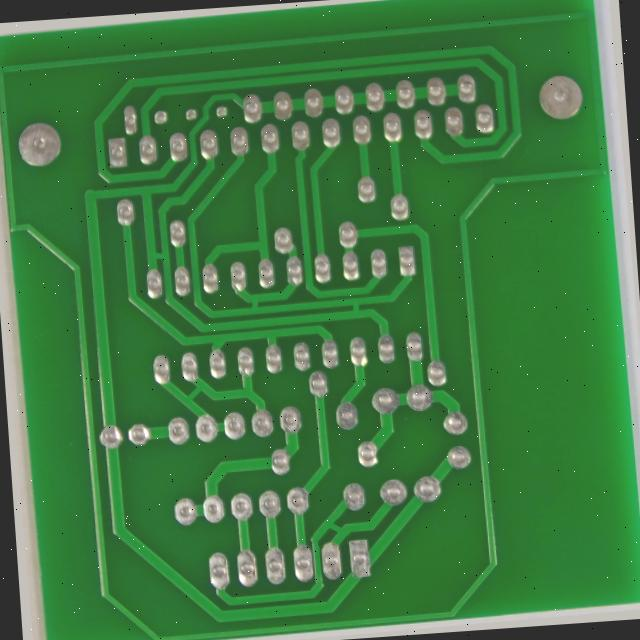short: (169, 377, 207, 408), (311, 517, 347, 545), (340, 291, 369, 325), (238, 289, 267, 315), (138, 238, 170, 261)
